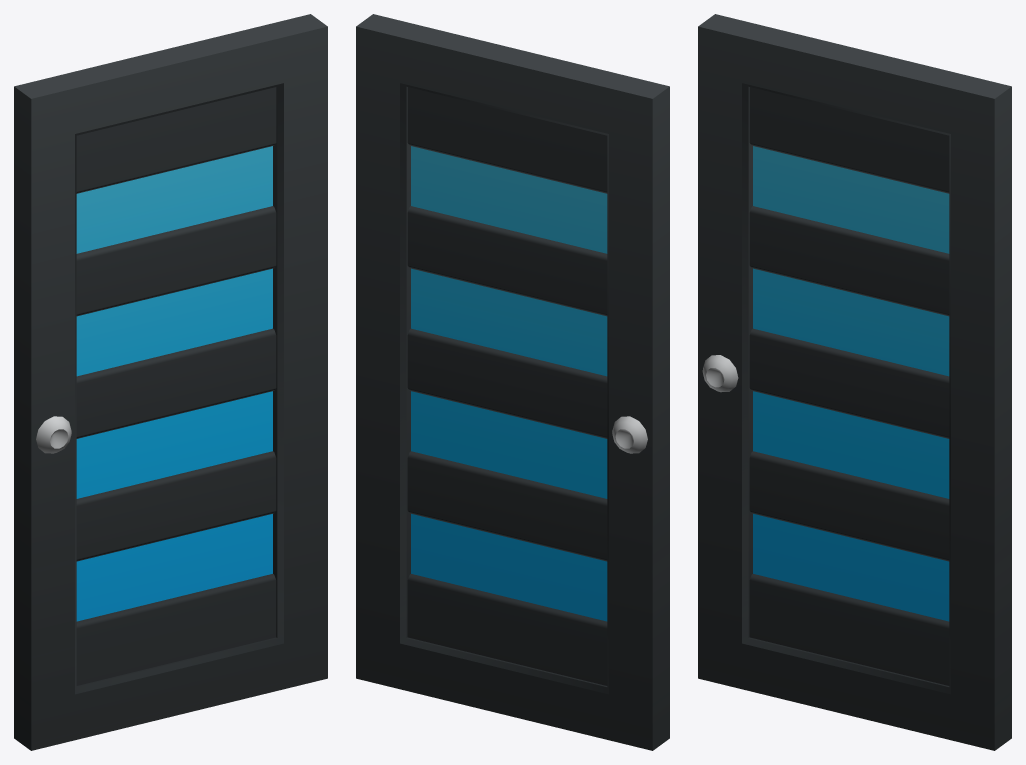
File: Door_Black_08.glb
3 views of the same model, side by side, from view 1: azimuth 30°, elevation 25°; view 2: azimuth 150°, elevation 25°; view 3: azimuth 330°, elevation 25° (orthographic).
Parts seen in each view (by area): view 1: Door_Black_08; view 2: Door_Black_08; view 3: Door_Black_08.
Boxes of the visible parts, x1,y1,x2,y2 form: Door_Black_08: [14, 14, 327, 750]; Door_Black_08: [356, 14, 669, 750]; Door_Black_08: [698, 14, 1011, 750].
Bounding box in the file's own units: 1 × 2.1 × 0.1634.
Materials: 2 (2 with a texture image).
